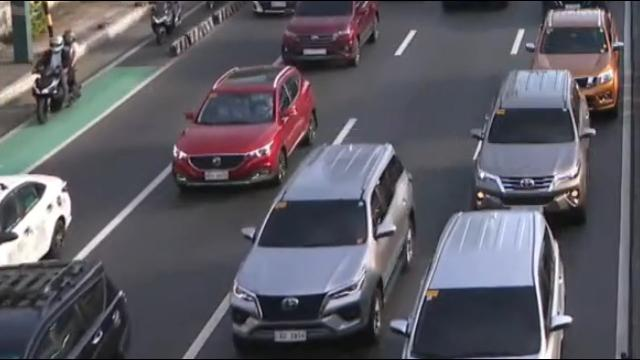car: (227, 145, 417, 358), (405, 212, 568, 360), (170, 67, 318, 193), (467, 67, 595, 207), (0, 258, 137, 360), (525, 8, 625, 110), (0, 179, 78, 262), (281, 0, 379, 66)
motorcycle: (31, 25, 84, 128), (149, 0, 179, 46)
